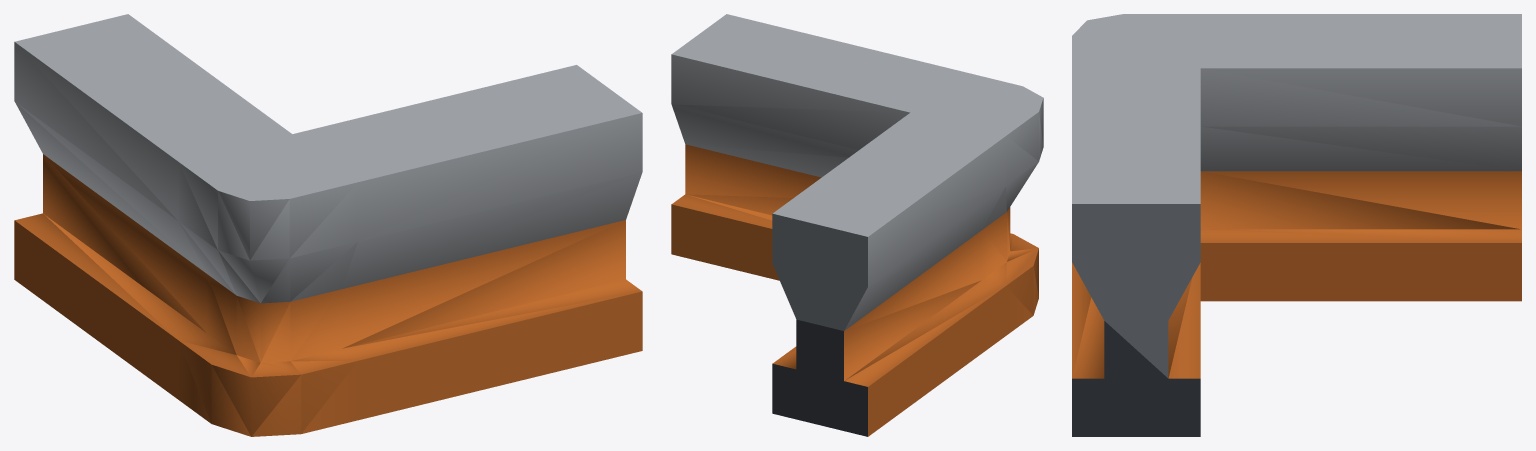
Rendered from Kit_balcony-rail-corner.fbx.
The picture shows the model from 3 angles, left to right: view 1: azimuth 30°, elevation 25°; view 2: azimuth 150°, elevation 25°; view 3: azimuth 270°, elevation 25°; orthographic projection. The views are drawn at different scales.
Parts seen in each view (by area): view 1: Kit_balcony-rail-corner; view 2: Kit_balcony-rail-corner; view 3: Kit_balcony-rail-corner.
Part boxes in pixels (x1,y1,x2,y2): Kit_balcony-rail-corner: [14, 14, 642, 436]; Kit_balcony-rail-corner: [671, 14, 1043, 436]; Kit_balcony-rail-corner: [1072, 14, 1521, 436].
Bounding box in the file's own units: 0.7 × 0.4 × 0.7.
